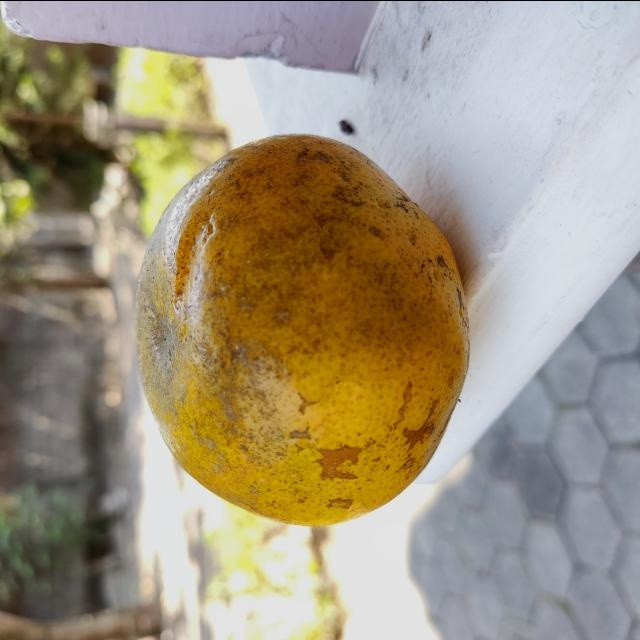agrume: (132, 130, 472, 528)
